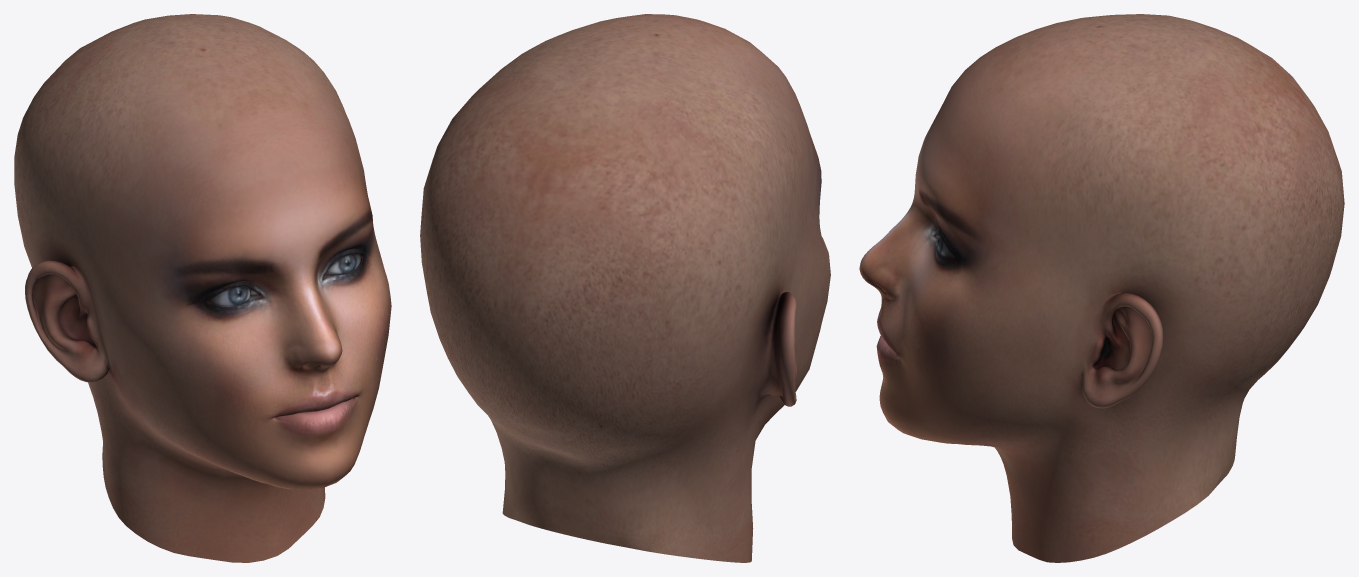
File: Beautiful Model - Lisa.fbx
3 renders of one model, left to right at view 1: azimuth 30°, elevation 25°; view 2: azimuth 150°, elevation 25°; view 3: azimuth 270°, elevation 25°, orthographic. The views are drawn at different scales.
Parts seen in each view (by area): view 1: Head; view 2: Head; view 3: Head.
Part boxes in pixels (<box>): Head: <box>14,14,391,562</box>; Head: <box>420,14,830,562</box>; Head: <box>859,14,1344,562</box>.
Bounding box in the file's own units: 0.1904 × 0.2705 × 0.2355.
